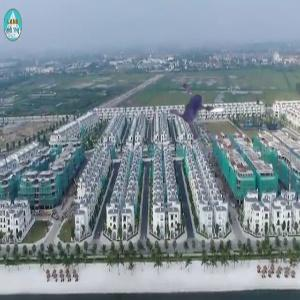drone: (161, 68, 252, 159)
